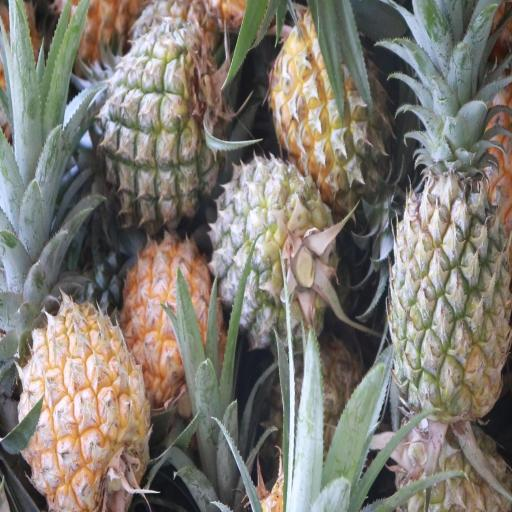------------------------------: (94, 28, 220, 208), (270, 6, 391, 193), (216, 160, 334, 345)
Pineapple - v8 v1: (23, 309, 154, 512), (126, 234, 223, 398)
